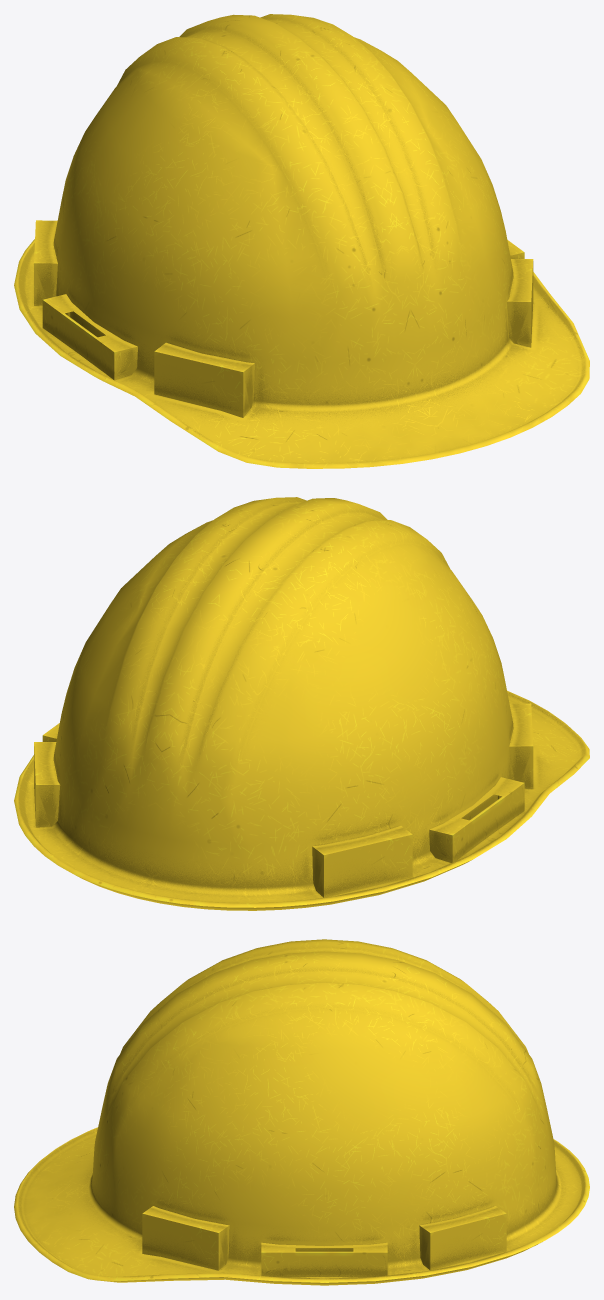
File: hard_hat.glb
3 renders of one model, top to bottom at view 1: azimuth 30°, elevation 25°; view 2: azimuth 150°, elevation 25°; view 3: azimuth 270°, elevation 25°, orthographic. The views are drawn at different scales.
Visible parts, largest first — view 1: hard_hat; view 2: hard_hat; view 3: hard_hat.
Part boxes in pixels (<box>): hard_hat: <box>14,14,589,468</box>; hard_hat: <box>14,497,589,910</box>; hard_hat: <box>14,939,589,1285</box>.
Bounding box in the file's own units: 0.2203 × 0.1369 × 0.2802.
Materials: 1 (1 with a texture image).
